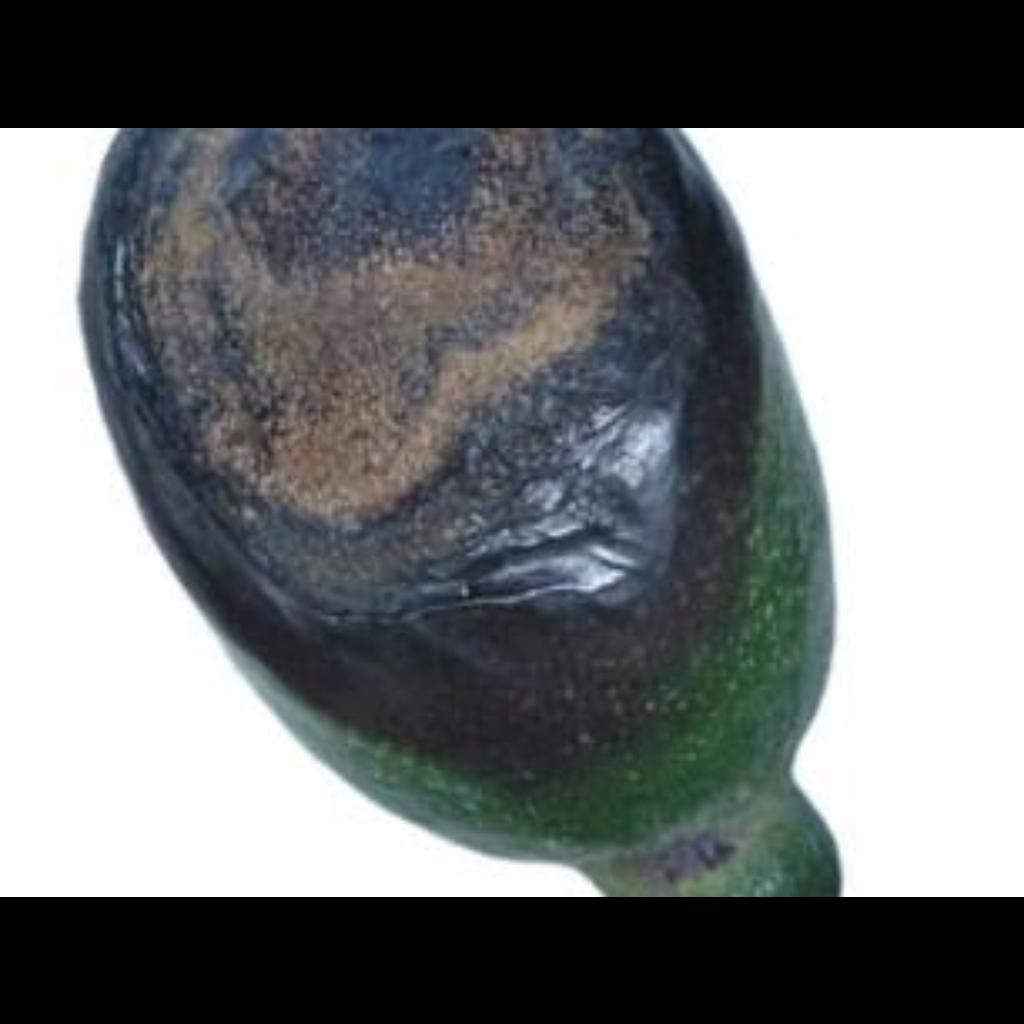Anthracnose: (171, 274, 803, 686)
